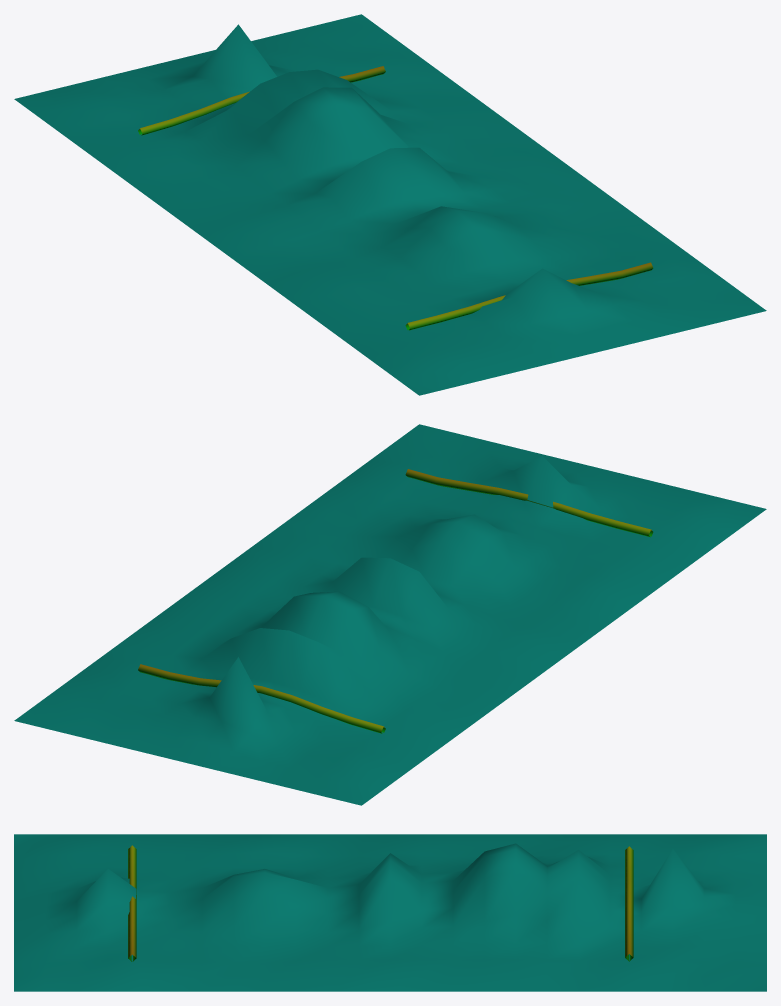
File: shroud_a.glb
The picture shows the model from 3 angles, top to bottom: view 1: azimuth 30°, elevation 25°; view 2: azimuth 150°, elevation 25°; view 3: azimuth 270°, elevation 25°; orthographic projection. The views are drawn at different scales.
Parts seen in each view (by area): view 1: shroud_a; view 2: shroud_a; view 3: shroud_a.
Part boxes in pixels (x1,y1,x2,y2): shroud_a: (14, 14, 766, 395); shroud_a: (14, 424, 766, 805); shroud_a: (14, 834, 766, 991).
Size of what is drawn, in the model's own units: 1.04 by 0.1985 by 2.1.
